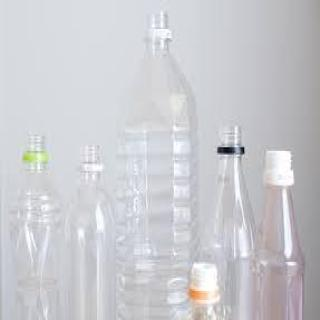Plastic-bottle: (118, 8, 202, 320), (10, 133, 68, 320), (207, 123, 260, 320), (69, 143, 119, 320)
